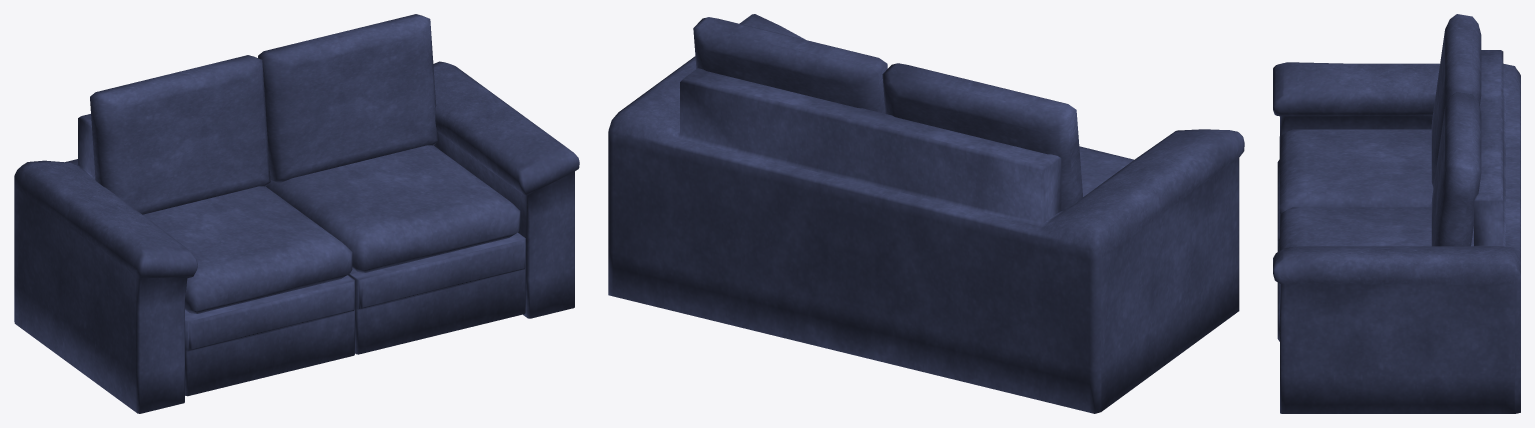
Rendered from Sofa_2.fbx.
The picture shows the model from 3 angles, left to right: view 1: azimuth 30°, elevation 25°; view 2: azimuth 150°, elevation 25°; view 3: azimuth 270°, elevation 25°; orthographic projection. The views are drawn at different scales.
Parts seen in each view (by area): view 1: Sofa 2_low; view 2: Sofa 2_low; view 3: Sofa 2_low.
Boxes of the visible parts, x1,y1,x2,y2 form: Sofa 2_low: (14, 14, 579, 413); Sofa 2_low: (608, 14, 1244, 413); Sofa 2_low: (1273, 14, 1520, 413).
Bounding box in the file's own units: 164 × 84.17 × 84.24.
